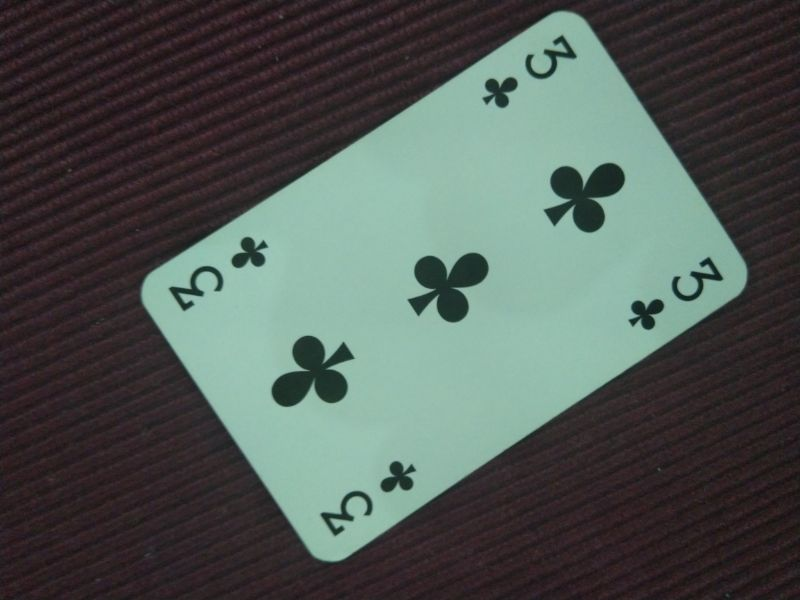3c: (316, 456, 417, 540), (166, 234, 271, 314), (624, 253, 725, 335), (480, 33, 580, 111)
